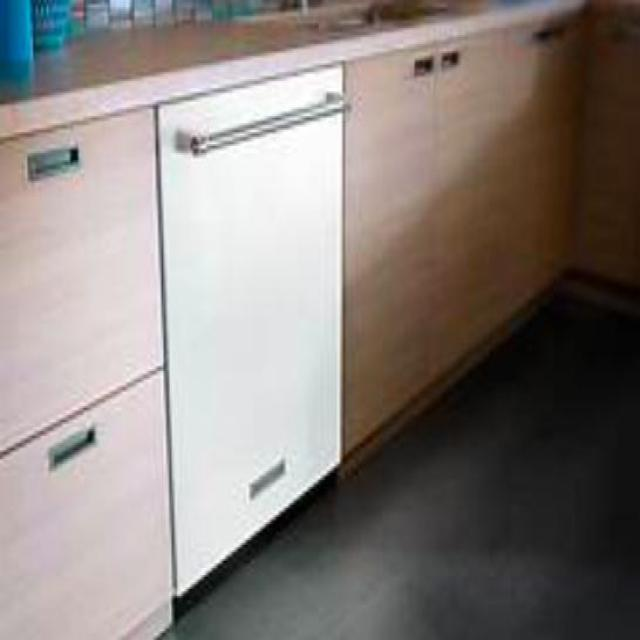dishwasher: (156, 58, 343, 593)
